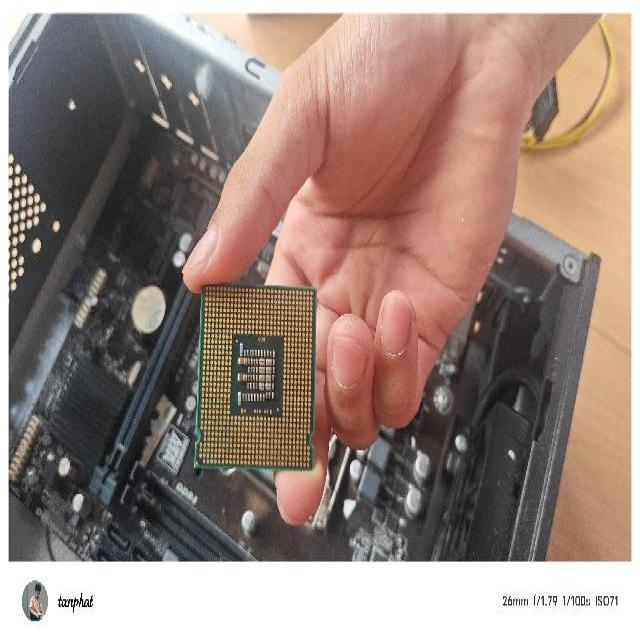CPU: (194, 282, 316, 473)
